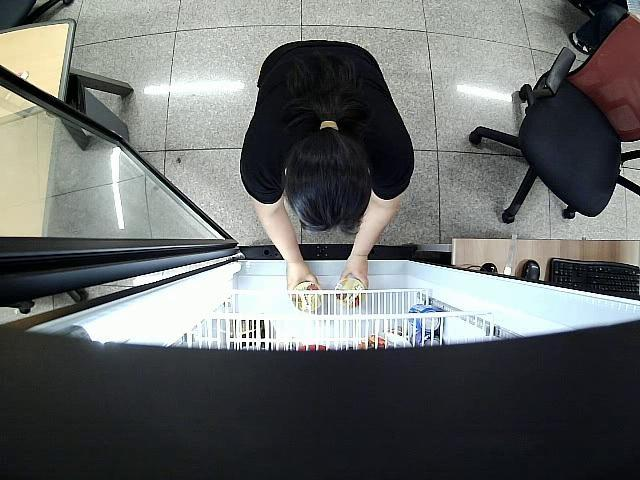04_chapagetti_S: (333, 276, 368, 310), (289, 280, 322, 313)
